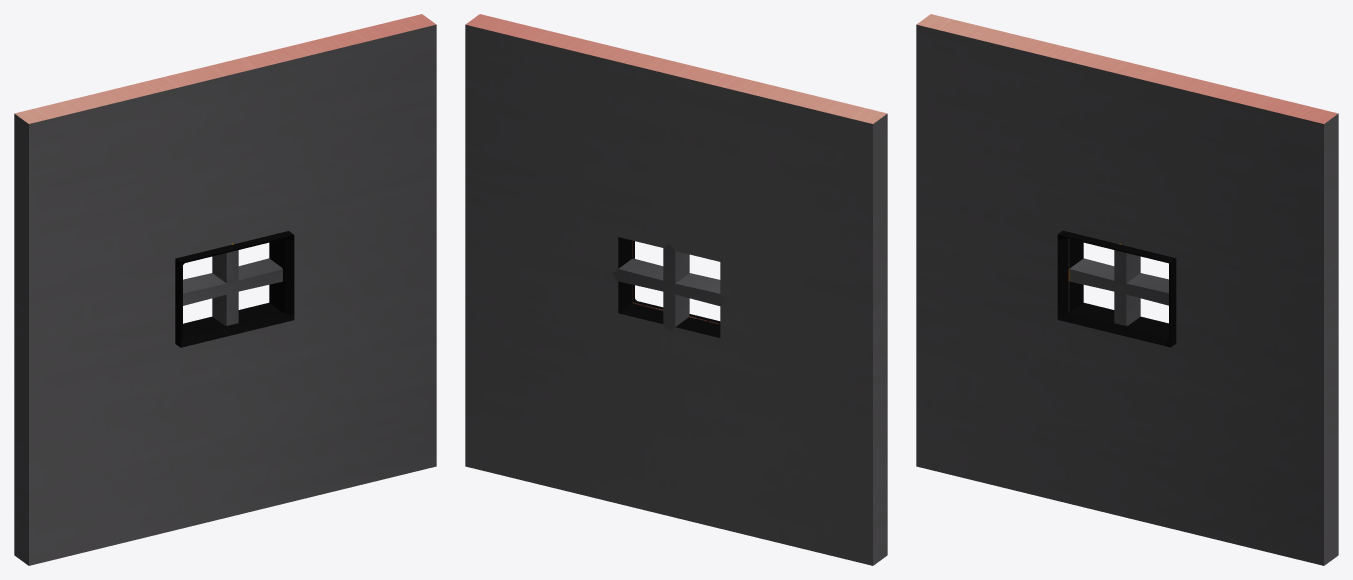
The model's file is warehouseinteriorTextureAttempt1.fbx.
3 renders of one model, left to right at view 1: azimuth 30°, elevation 25°; view 2: azimuth 150°, elevation 25°; view 3: azimuth 330°, elevation 25°, orthographic.
Visible parts, largest first — view 1: Cube; view 2: Cube; view 3: Cube.
Boxes of the visible parts, left/top/right/bottom form: Cube: left=14, top=14, right=436, bottom=565; Cube: left=465, top=14, right=887, bottom=565; Cube: left=916, top=14, right=1338, bottom=565.
Bounding box in the file's own units: 1400 × 1450 × 118.
